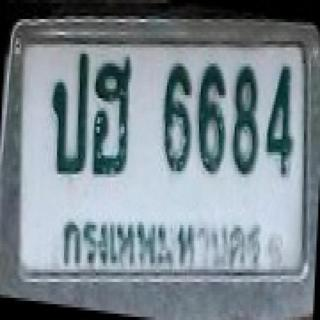A27: (46, 51, 90, 177)
A44: (92, 50, 136, 181)
N04: (262, 58, 301, 182)
N06: (159, 58, 194, 175), (195, 58, 229, 175)
N08: (228, 58, 260, 177)
P04: (53, 215, 275, 271)
